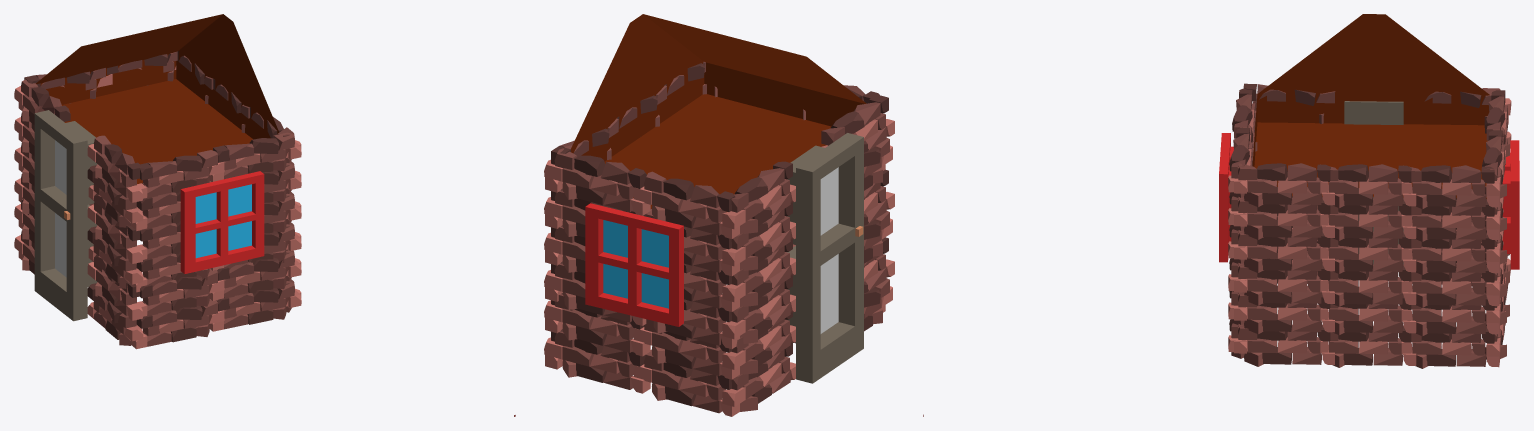
The model's file is House.fbx.
The picture shows the model from 3 angles, left to right: view 1: azimuth 30°, elevation 25°; view 2: azimuth 150°, elevation 25°; view 3: azimuth 270°, elevation 25°; orthographic projection. The views are drawn at different scales.
Visible parts, largest first — view 1: house; view 2: house; view 3: house.
Boxes of the visible parts, bbox=[...] form: house: bbox=[14, 14, 515, 416]; house: bbox=[544, 14, 894, 416]; house: bbox=[923, 14, 1519, 416].
Bounding box in the file's own units: 2660 × 2646 × 4981.
